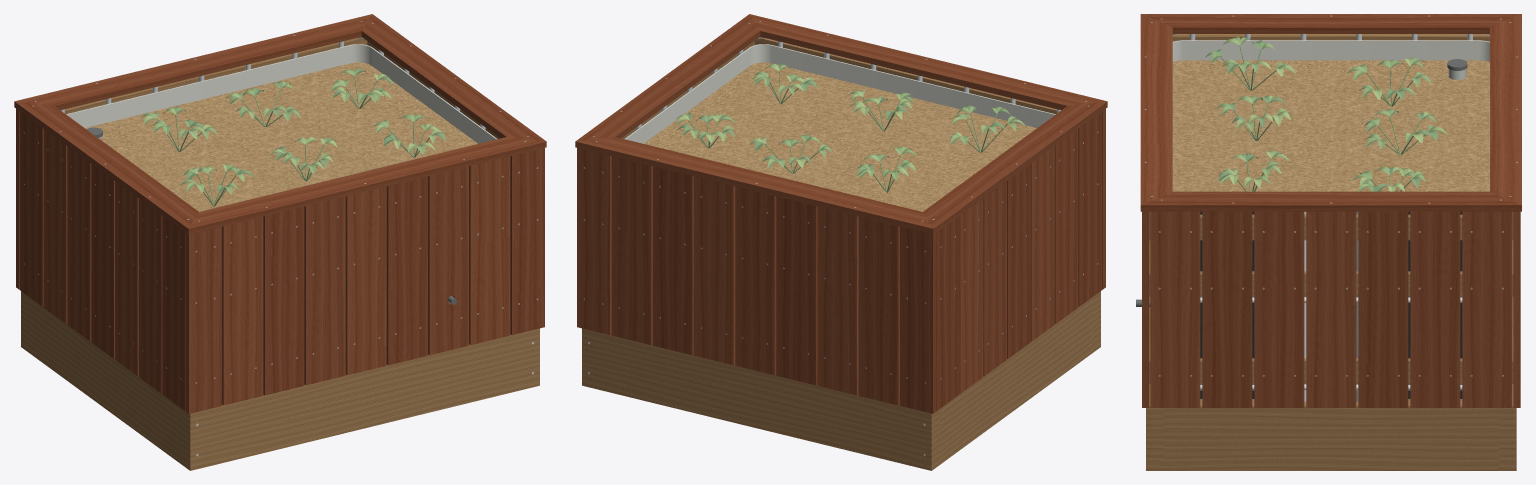
The model's file is wicking-bed-with-timber-cladding.glb.
3 views of the same model, side by side, from view 1: azimuth 30°, elevation 25°; view 2: azimuth 150°, elevation 25°; view 3: azimuth 270°, elevation 25° (orthographic). The views are drawn at different scales.
Visible parts, largest first — view 1: Geom3D (×22), Geom3D_Straw mulch, Geom3D_Long sleeper | 1240 x 200 x 50, Geom3D_End sleeper | 940 x 200 x 50, Geom3D_HDPE tub | open cut rim; view 2: Geom3D (×22), Geom3D_Straw mulch, Geom3D_Long sleeper | 1240 x 200 x 50, Geom3D_End sleeper | 940 x 200 x 50, Geom3D_HDPE tub | open cut rim; view 3: Geom3D (×18), Geom3D_Straw mulch, Geom3D_End sleeper | 940 x 200 x 50, Geom3D_HDPE tub | open cut rim, Geom3D_Long sleeper | 1240 x 200 x 50 (×2), Geom3D_Black woven outer wrap.
Part boxes in pixels (bbox=[...]): Geom3D (×22): bbox=[14, 14, 546, 413]; Geom3D_Straw mulch: bbox=[85, 62, 477, 211]; Geom3D_Long sleeper | 1240 x 200 x 50: bbox=[182, 328, 539, 470]; Geom3D_End sleeper | 940 x 200 x 50: bbox=[29, 297, 182, 464]; Geom3D_HDPE tub | open cut rim: bbox=[66, 44, 497, 143]; Geom3D (×22): bbox=[575, 14, 1107, 413]; Geom3D_Straw mulch: bbox=[644, 62, 1036, 211]; Geom3D_Long sleeper | 1240 x 200 x 50: bbox=[582, 328, 939, 470]; Geom3D_End sleeper | 940 x 200 x 50: bbox=[939, 297, 1092, 464]; Geom3D_HDPE tub | open cut rim: bbox=[624, 44, 1055, 143]; Geom3D (×18): bbox=[1140, 14, 1521, 407]; Geom3D_Straw mulch: bbox=[1172, 60, 1489, 191]; Geom3D_End sleeper | 940 x 200 x 50: bbox=[1164, 399, 1498, 470]; Geom3D_HDPE tub | open cut rim: bbox=[1172, 40, 1489, 61]; Geom3D_Long sleeper | 1240 x 200 x 50 (×2): bbox=[1146, 384, 1516, 470]; Geom3D_Black woven outer wrap: bbox=[1200, 211, 1462, 398].
Bounding box in the file's own units: 1.27 × 0.8392 × 1.08.
Materials: 19 (8 with a texture image).
